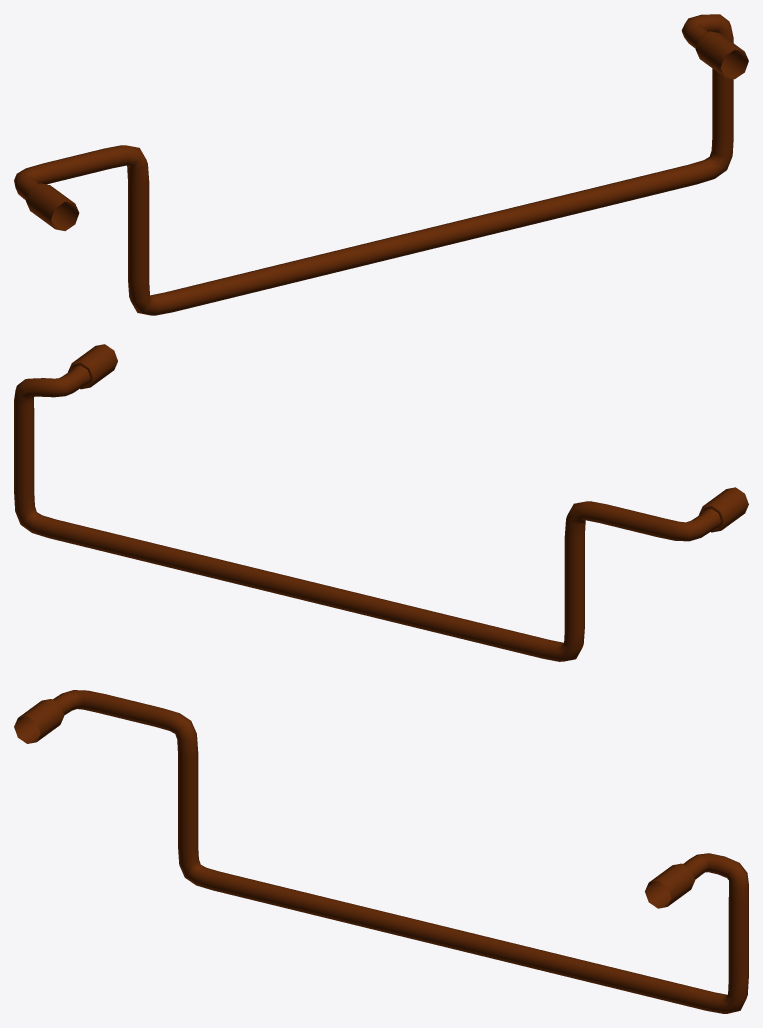
File: Wire_Head_Yellow(Pin_13-X0).obj
The picture shows the model from 3 angles, top to bottom: view 1: azimuth 30°, elevation 25°; view 2: azimuth 150°, elevation 25°; view 3: azimuth 330°, elevation 25°; orthographic projection. The views are drawn at different scales.
Parts seen in each view (by area): view 1: Wire_Head_Yellow(Pin_13-X0); view 2: Wire_Head_Yellow(Pin_13-X0); view 3: Wire_Head_Yellow(Pin_13-X0).
Boxes of the visible parts, x1,y1,x2,y2 form: Wire_Head_Yellow(Pin_13-X0): (14,14,748,315); Wire_Head_Yellow(Pin_13-X0): (14,344,748,661); Wire_Head_Yellow(Pin_13-X0): (14,690,748,1013).
Size of the model in its own units: 0.1545 by 0.0371 by 0.02.
